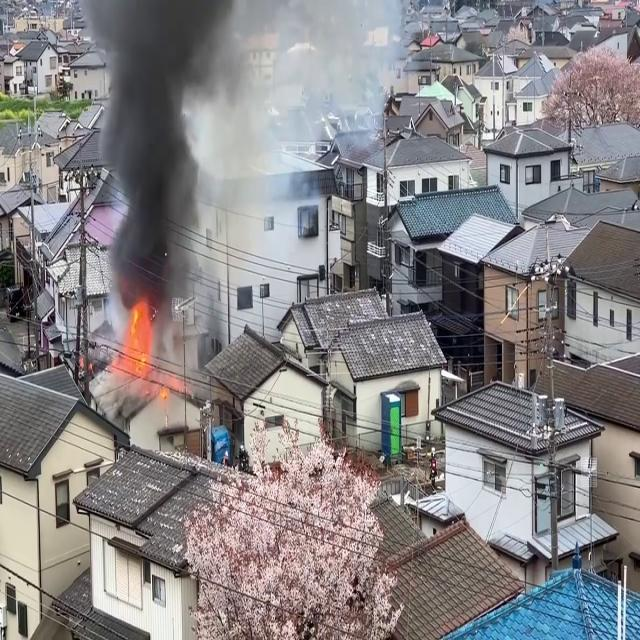Fire: (112, 300, 158, 380)
Smoke: (85, 0, 244, 349)
